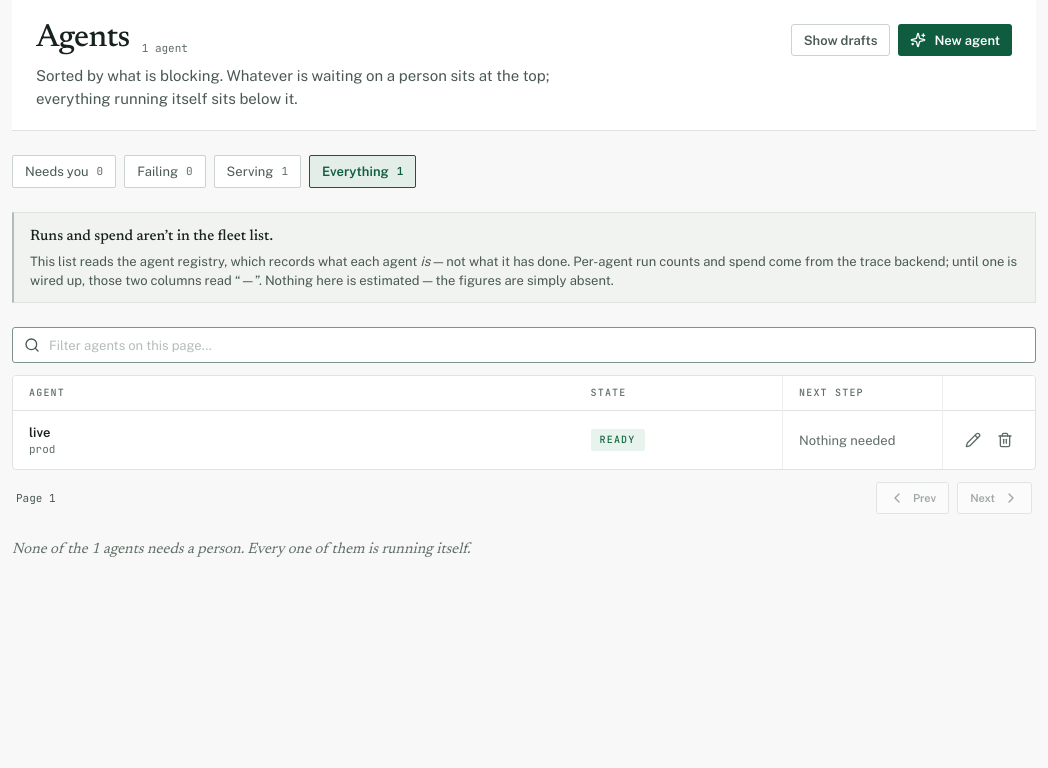
AgentsPage — Drafts toggle (m71.5) › shows a Drafts toggle that passes includeDrafts to the API
Check: the text "live" is shown, box [29,423,50,442]
Check: the text "my-draft" is not shown
// Toggle drafts on
What coordinates should you click on to do the following:
click the button with test id "drafts-toggle"
I would click on:
 (841, 40)
Its box is [791,24,890,56].
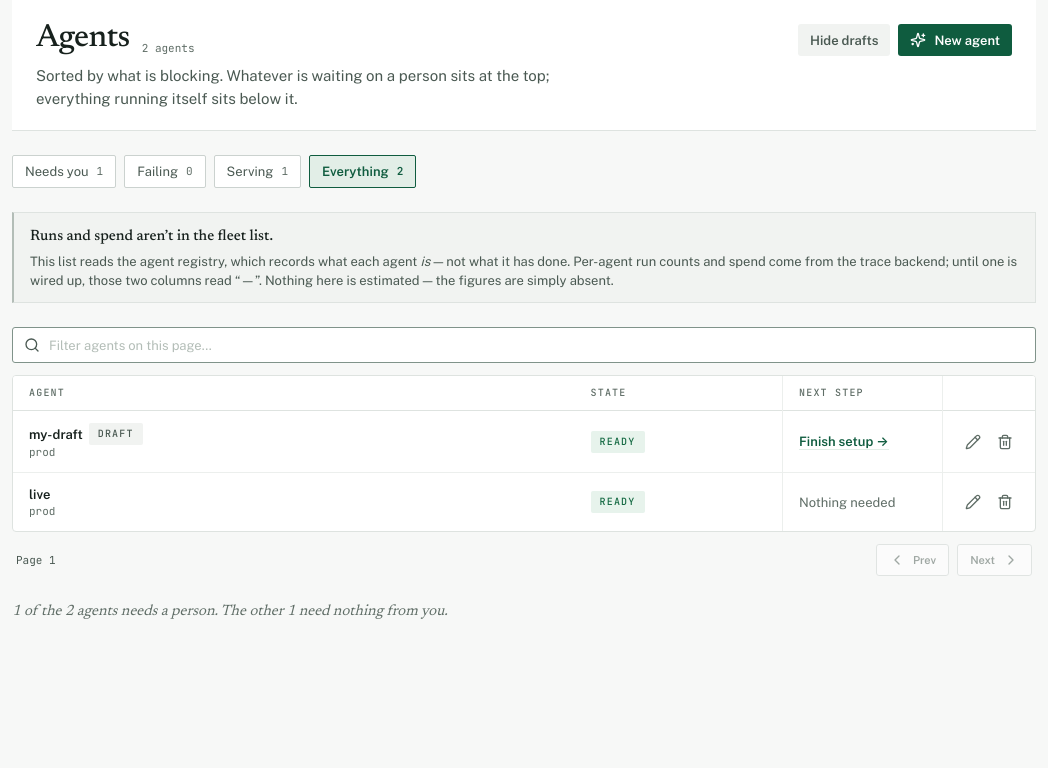
Check: the text "my-draft" is shown, box [29,424,83,444]
